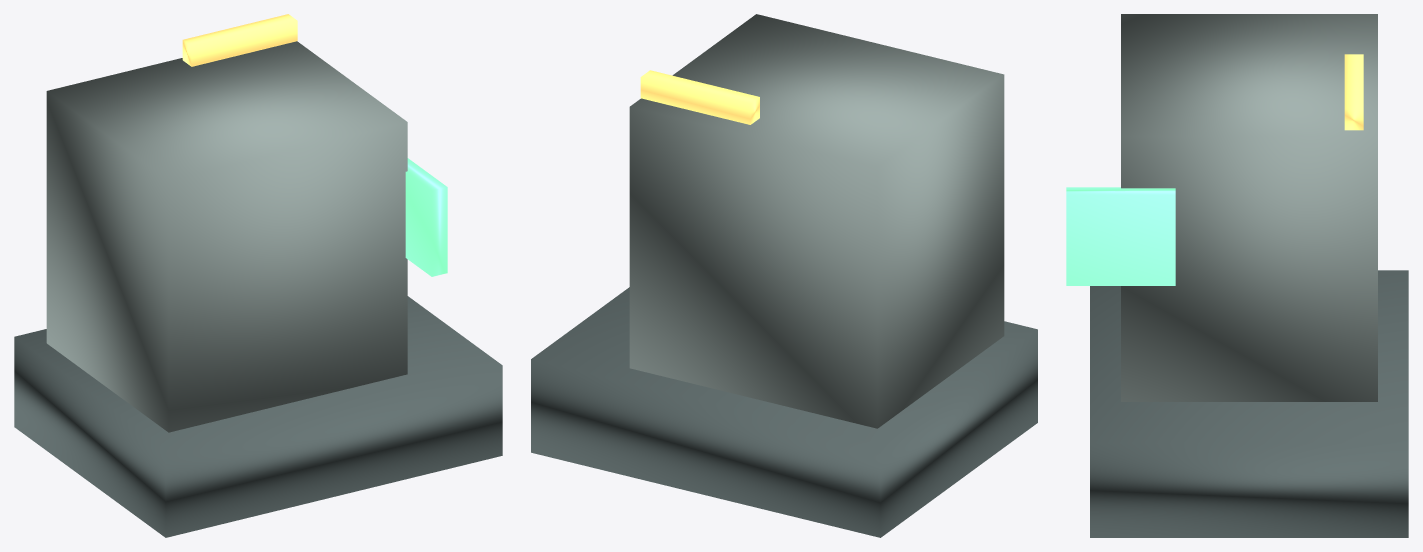
File: spin-habitat-service-bay-lod2.glb
3 renders of one model, left to right at view 1: azimuth 30°, elevation 25°; view 2: azimuth 150°, elevation 25°; view 3: azimuth 270°, elevation 25°, orthographic. The views are drawn at different scales.
Visible parts, largest first — view 1: spin-habitat-service-bay-shell, spin-habitat-service-bay-base, spin-habitat-service-bay-screen, spin-habitat-service-bay-marker; view 2: spin-habitat-service-bay-shell, spin-habitat-service-bay-base, spin-habitat-service-bay-marker; view 3: spin-habitat-service-bay-shell, spin-habitat-service-bay-base, spin-habitat-service-bay-screen, spin-habitat-service-bay-marker.
Part boxes in pixels (x1,y1,x2,y2): spin-habitat-service-bay-shell: (46,41,407,432); spin-habitat-service-bay-base: (14,296,502,537); spin-habitat-service-bay-screen: (405,158,447,276); spin-habitat-service-bay-marker: (182,14,297,66); spin-habitat-service-bay-shell: (629,14,1004,428); spin-habitat-service-bay-base: (531,287,1037,537); spin-habitat-service-bay-marker: (640,70,759,124); spin-habitat-service-bay-shell: (1121,14,1377,401); spin-habitat-service-bay-base: (1090,270,1408,537); spin-habitat-service-bay-screen: (1066,187,1175,285); spin-habitat-service-bay-marker: (1344,54,1363,130).
Bounding box in the file's own units: 1.72 × 1.79 × 1.44.
